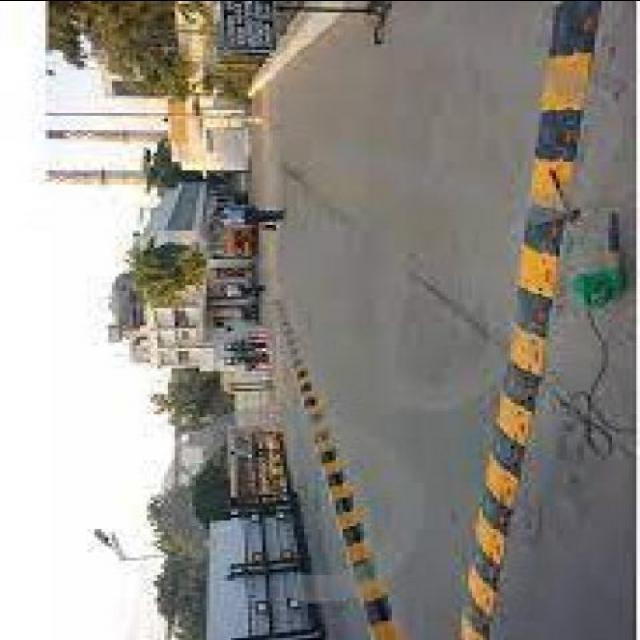speedbreaker: (447, 0, 602, 640)
